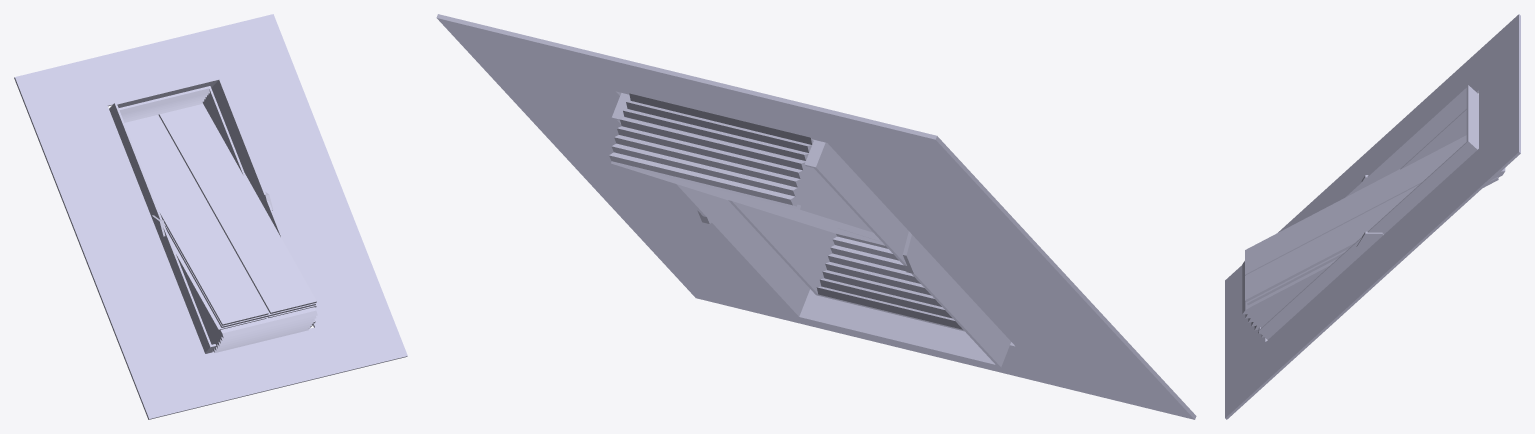
Rendered from RotateDock_030deg.glb.
3 views of the same model, side by side, from view 1: azimuth 30°, elevation 25°; view 2: azimuth 150°, elevation 25°; view 3: azimuth 270°, elevation 25° (orthographic). The views are drawn at different scales.
Parts seen in each view (by area): view 1: copy_Body021, copy_LinkGroup004, copy_Body, copy_Body023, copy_Body022, copy_LinkGroup003; view 2: copy_Body021, copy_Body, copy_Body022, copy_Body023, copy_LinkGroup003, copy_Body002; view 3: copy_Body021, copy_LinkGroup004, copy_Body, copy_Body023, copy_Body022, copy_LinkGroup003, copy_Body001.
Boxes of the visible parts, box(x1,y1,x2,y2) form: copy_Body021: box(14, 14, 407, 419); copy_LinkGroup004: box(124, 104, 316, 327); copy_Body: box(109, 77, 316, 353); copy_Body023: box(179, 262, 317, 352); copy_Body022: box(119, 86, 245, 175); copy_LinkGroup003: box(167, 232, 316, 330); copy_Body021: box(436, 14, 1196, 419); copy_Body: box(612, 93, 1010, 367); copy_Body022: box(609, 93, 866, 225); copy_Body023: box(728, 200, 964, 331); copy_LinkGroup003: box(611, 161, 884, 245); copy_Body002: box(902, 231, 930, 273); copy_Body021: box(1225, 14, 1520, 419); copy_LinkGroup004: box(1245, 135, 1466, 305); copy_Body: box(1258, 85, 1478, 339); copy_Body023: box(1242, 261, 1322, 337); copy_Body022: box(1400, 109, 1505, 179); copy_LinkGroup003: box(1249, 177, 1498, 309); copy_Body001: box(1356, 231, 1383, 254).
Size of the model in its own units: 1.68 by 1.52 by 1.52.
